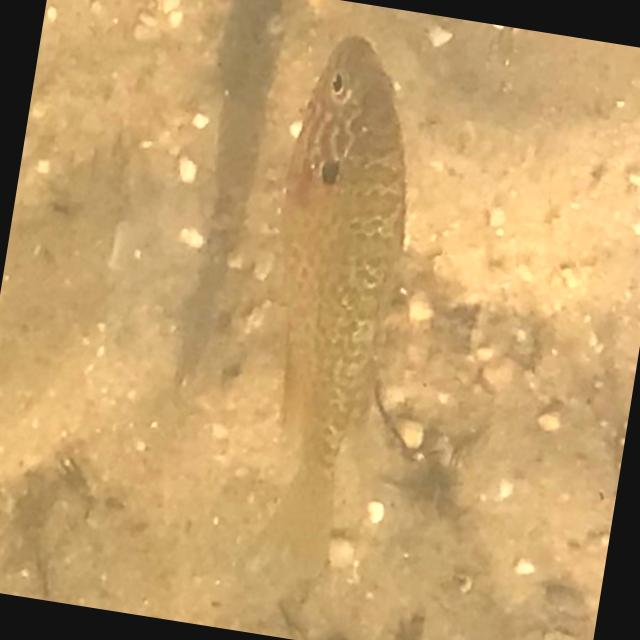Gunes Levregi: (200, 20, 466, 608)
